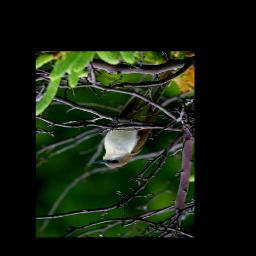Cuckoo: (97, 67, 178, 169)
